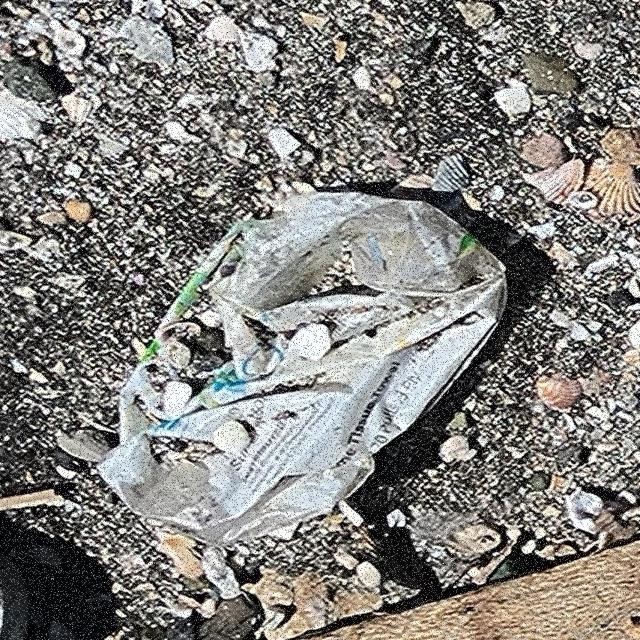plastic_waste: (96, 190, 511, 551)
